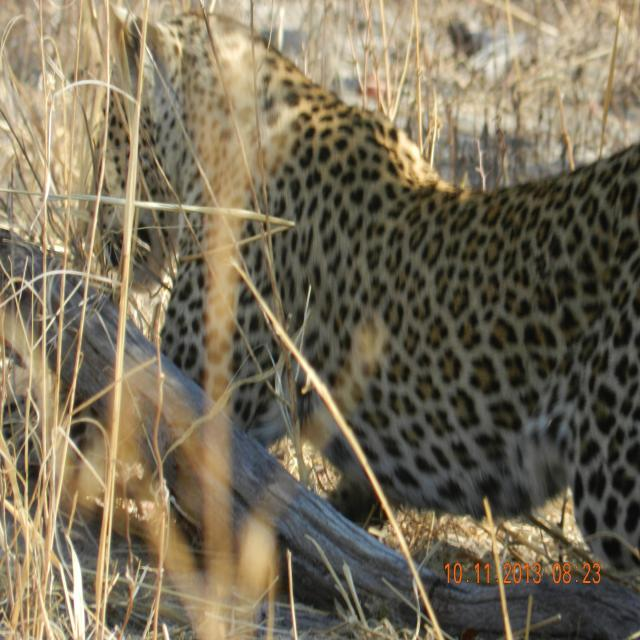Leopard: (89, 16, 630, 590)
